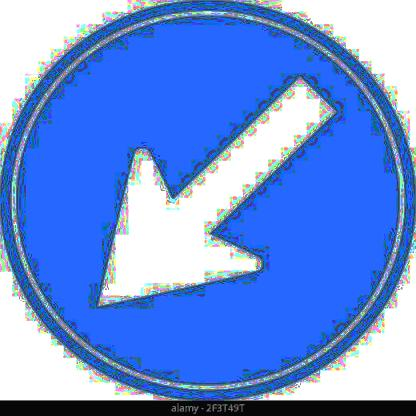Keep left: (3, 2, 411, 400)
